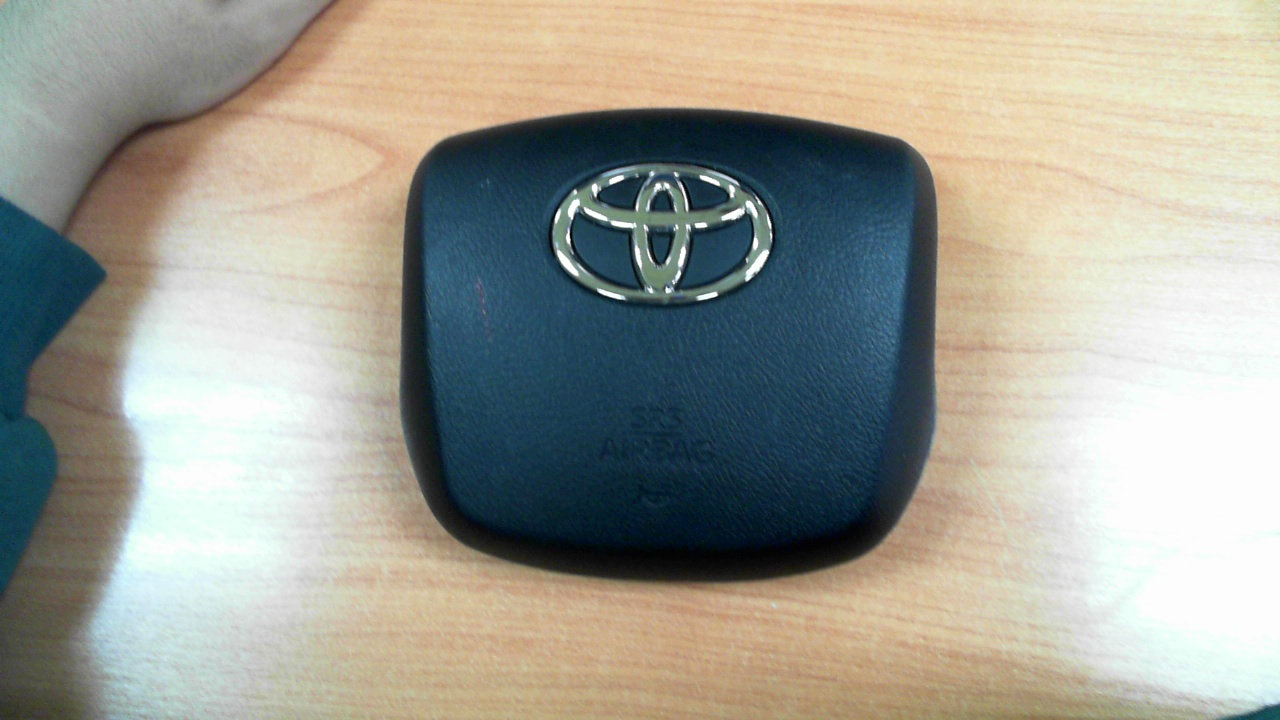Airbag: (398, 108, 939, 585)
Toyota: (551, 162, 774, 305)
